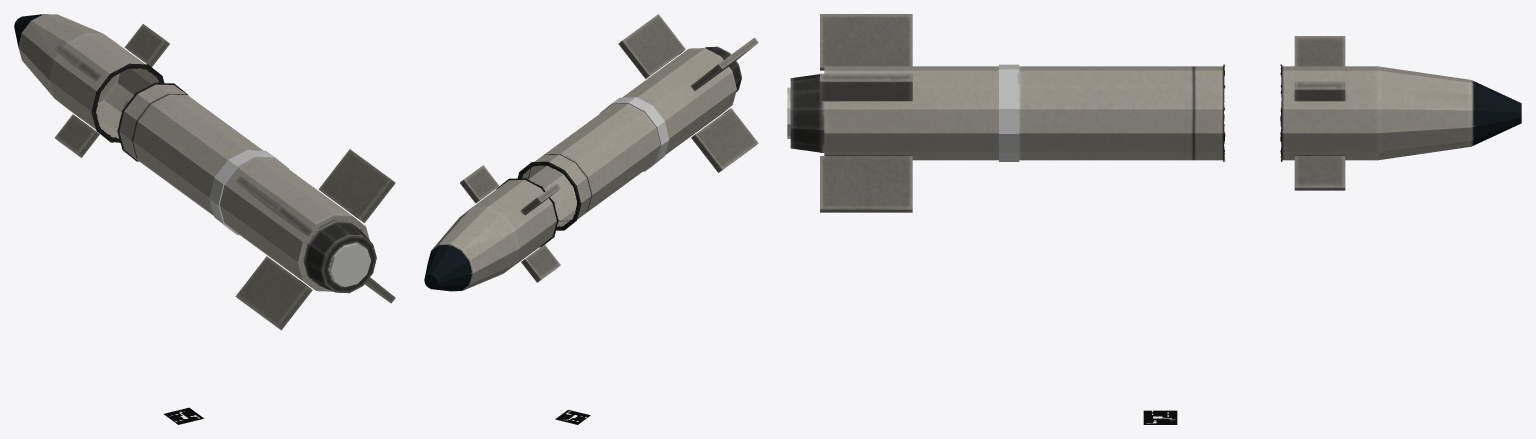
Rendered from ord_ir_sam.fbx.
The picture shows the model from 3 angles, left to right: view 1: azimuth 30°, elevation 25°; view 2: azimuth 150°, elevation 25°; view 3: azimuth 270°, elevation 25°; orthographic projection. The views are drawn at different scales.
Visible parts, largest first — view 1: base_bar, base_glow_weapon_bar, base_glow_running_bar, emissive_probe; view 2: base_bar, base_glow_running_bar, emissive_probe; view 3: base_bar, base_glow_running_bar.
Part boxes in pixels (x1=…): base_bar: x1=14, y1=14, x2=395, y2=330; base_glow_weapon_bar: x1=329, y1=243, x2=370, y2=286; base_glow_running_bar: x1=209, y1=150, x2=288, y2=235; emissive_probe: x1=164, y1=407, x2=203, y2=424; base_bar: x1=424, y1=14, x2=758, y2=291; base_glow_running_bar: x1=599, y1=97, x2=669, y2=171; emissive_probe: x1=555, y1=410, x2=590, y2=424; base_bar: x1=790, y1=14, x2=1521, y2=212; base_glow_running_bar: x1=999, y1=64, x2=1019, y2=161.
Bounding box in the file's own units: 91.22 × 246 × 437.
2 materials, 2 textured.
